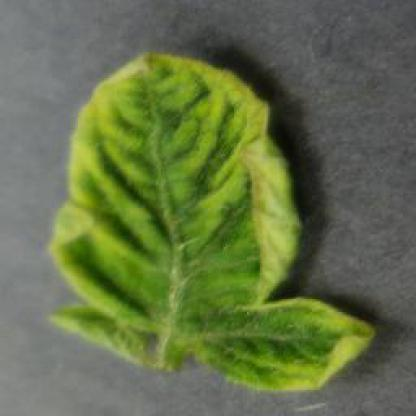bad leaf: (40, 32, 348, 400)
